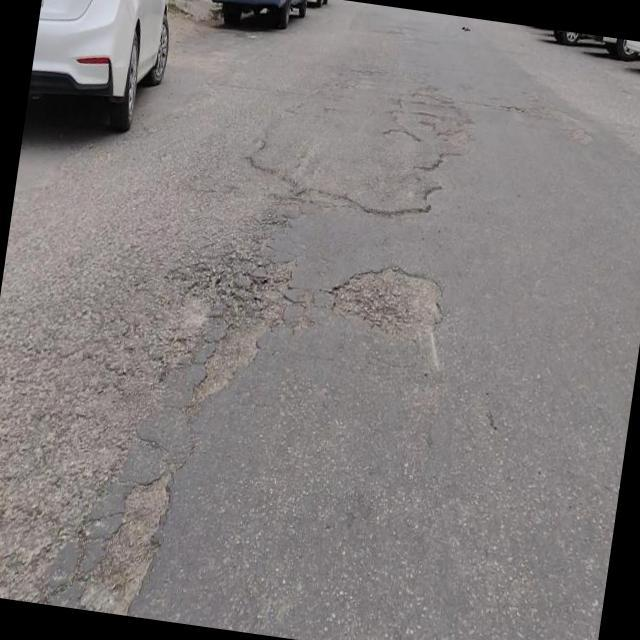Pothole: (79, 459, 174, 611), (190, 268, 289, 406), (329, 264, 444, 345)
